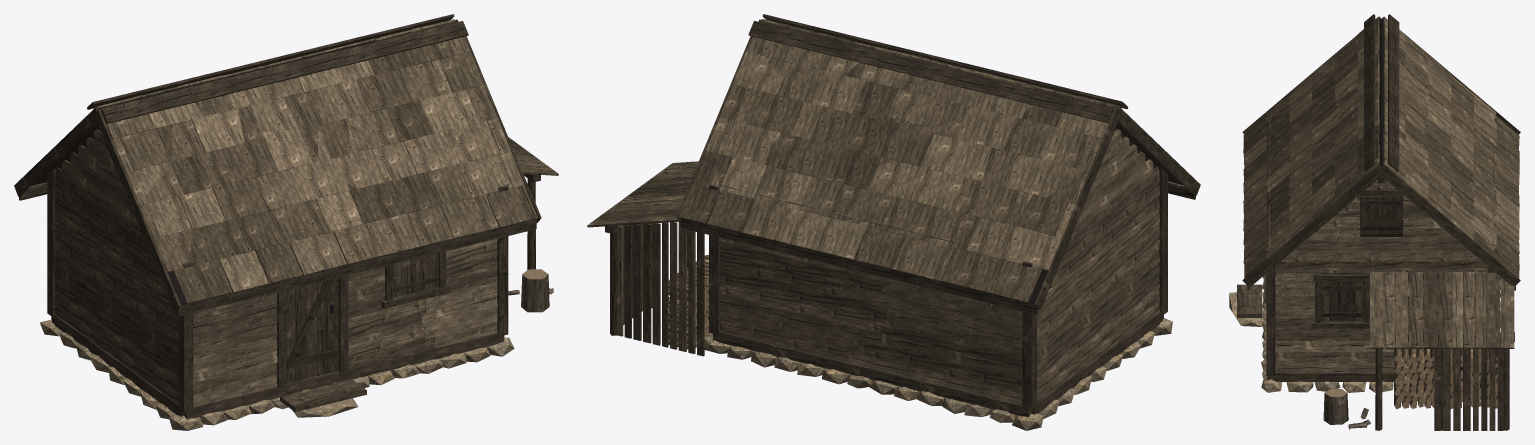
File: house-w3-lite.glb
The picture shows the model from 3 angles, left to right: view 1: azimuth 30°, elevation 25°; view 2: azimuth 150°, elevation 25°; view 3: azimuth 270°, elevation 25°; orthographic projection. The views are drawn at different scales.
Parts seen in each view (by area): view 1: Body, Door; view 2: Body; view 3: Body.
Boxes of the visible parts, <box> form: Body: <box>14,14,558,430</box>; Door: <box>287,277,337,383</box>; Body: <box>587,14,1200,430</box>; Body: <box>1229,14,1520,430</box>.
Size of the model in its own units: 7.32 by 4.39 by 4.81.
Materials: 4 (3 with a texture image).
